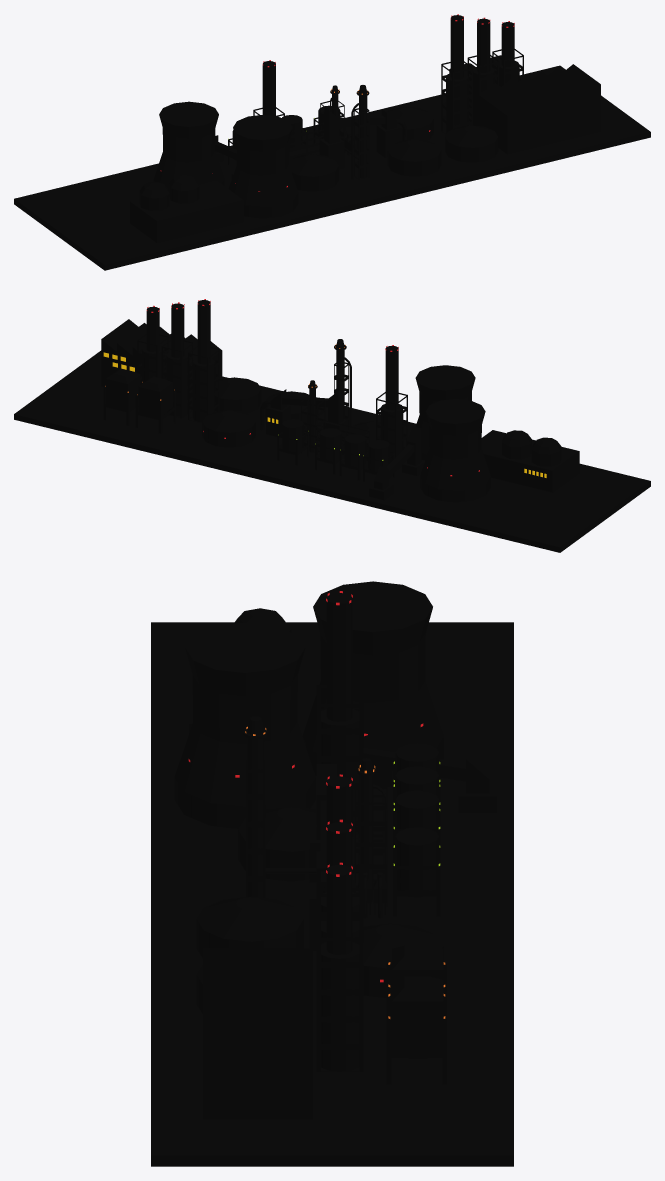
The model's file is shadow_oil_field.glb.
3 renders of one model, top to bottom at view 1: azimuth 30°, elevation 25°; view 2: azimuth 150°, elevation 25°; view 3: azimuth 270°, elevation 25°, orthographic. The views are drawn at different scales.
Parts seen in each view (by area): view 1: Object002_Material #39_0; view 2: Object002_Material #39_0; view 3: Object002_Material #39_0.
Part boxes in pixels (bbox=[...]): Object002_Material #39_0: bbox=[14, 14, 650, 270]; Object002_Material #39_0: bbox=[14, 299, 650, 552]; Object002_Material #39_0: bbox=[151, 581, 513, 1166].
Bounding box in the file's own units: 2614 × 556 × 753.
1 material, 1 textured.
